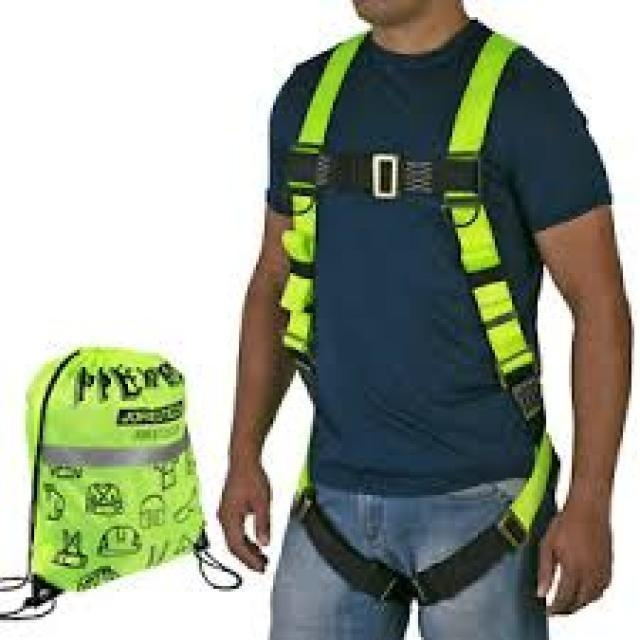Arnes_seguridad: (282, 26, 562, 596)
